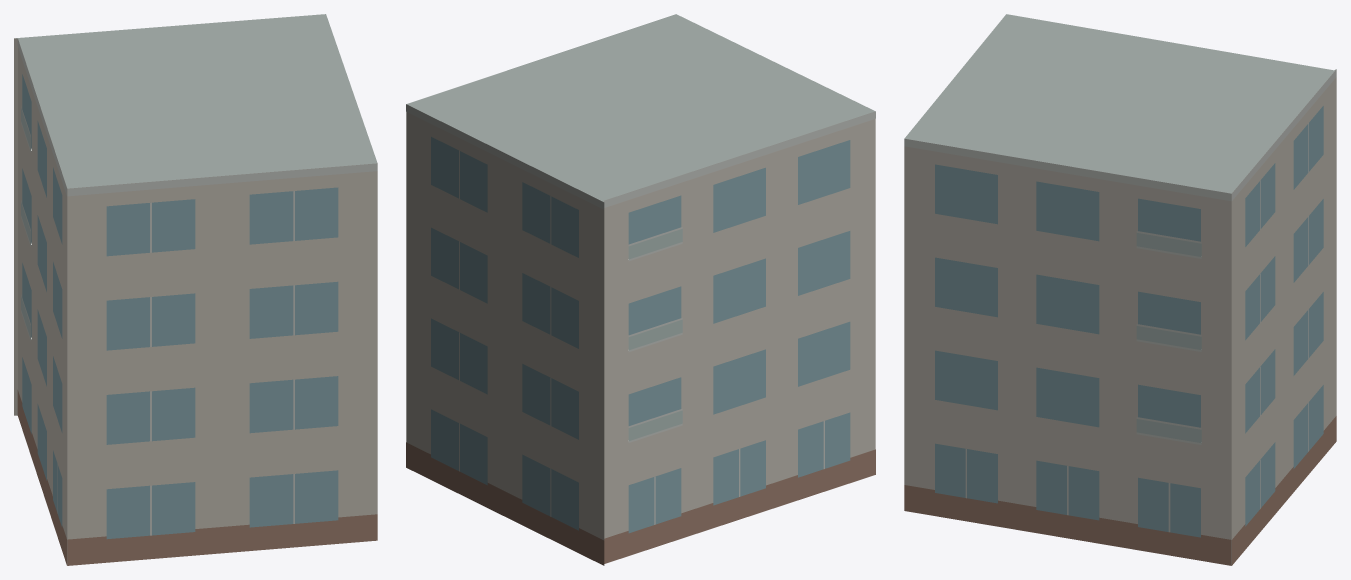
The model's file is survey-upis-32677998.glb.
The picture shows the model from 3 angles, left to right: view 1: azimuth 30°, elevation 25°; view 2: azimuth 150°, elevation 25°; view 3: azimuth 270°, elevation 25°; orthographic projection. The views are drawn at different scales.
Visible parts, largest first — view 1: survey-upis-32677998.tmp; view 2: survey-upis-32677998.tmp; view 3: survey-upis-32677998.tmp.
Boxes of the visible parts, x1=… form: survey-upis-32677998.tmp: x1=14, y1=14, x2=377, y2=565; survey-upis-32677998.tmp: x1=406, y1=14, x2=875, y2=565; survey-upis-32677998.tmp: x1=904, y1=14, x2=1336, y2=565.
Size of the model in its own units: 12.28 by 11.85 by 12.48.
